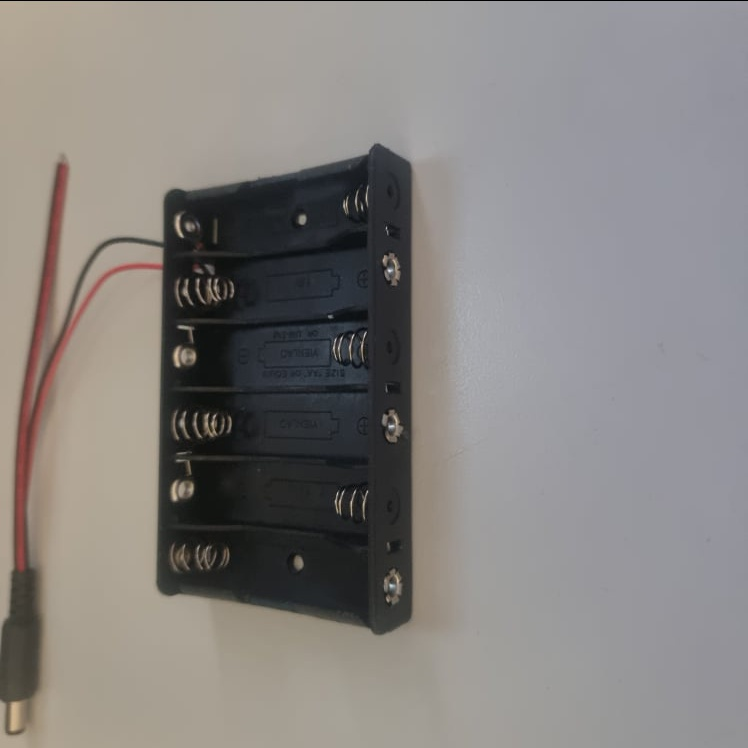BATTERY BOX: (157, 140, 414, 636)
